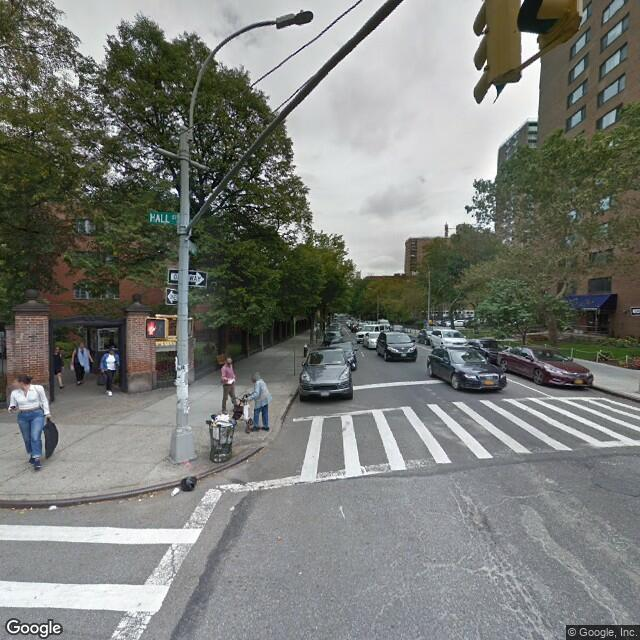litter: (170, 477, 201, 495), (47, 504, 61, 512)
